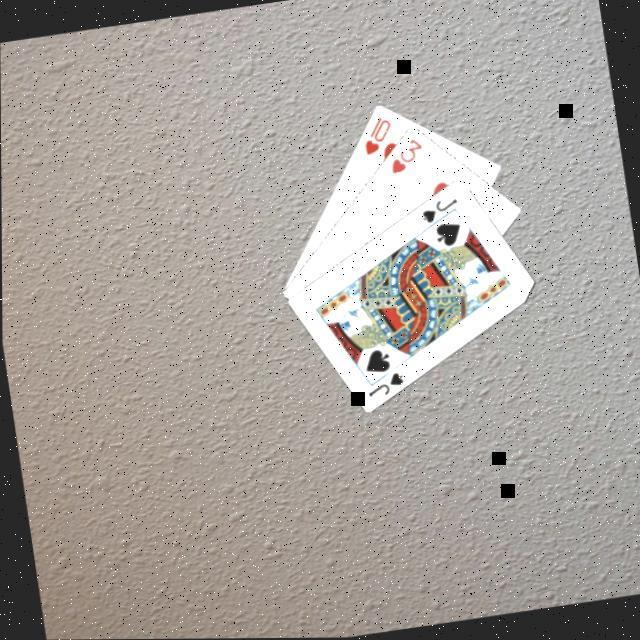10H: (356, 112, 398, 161)
3H: (383, 135, 428, 178)
JS: (415, 194, 462, 228), (361, 369, 408, 402)
